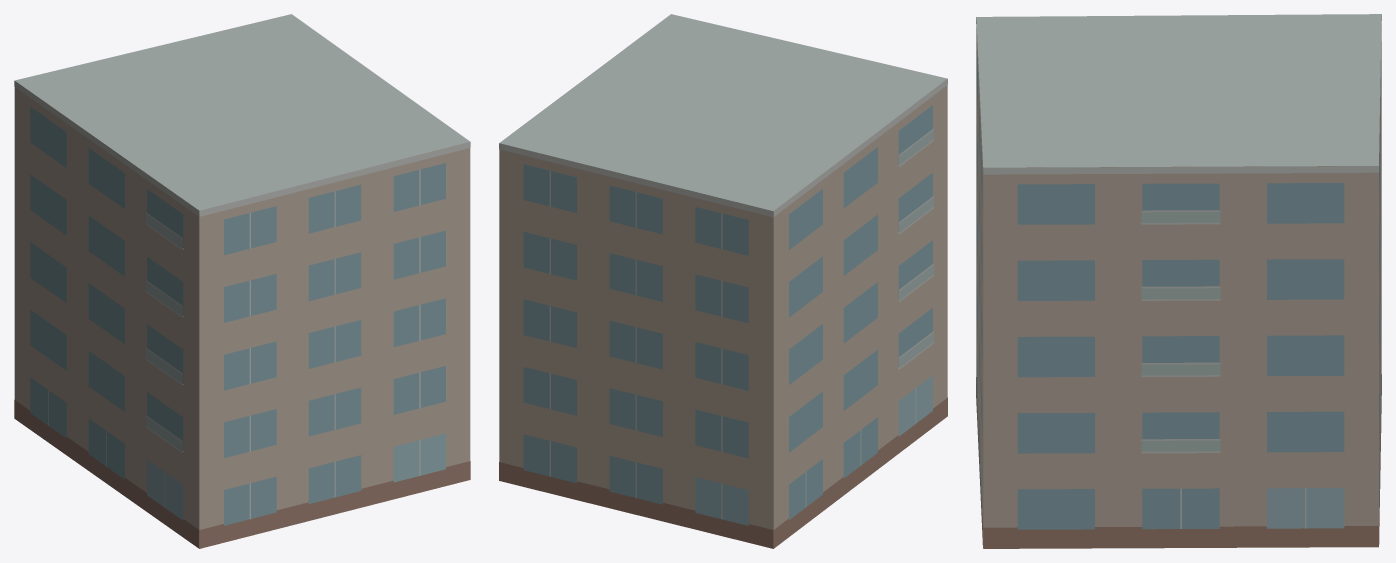
The model's file is survey-upis-32741298.glb.
3 renders of one model, left to right at view 1: azimuth 30°, elevation 25°; view 2: azimuth 150°, elevation 25°; view 3: azimuth 270°, elevation 25°, orthographic. The views are drawn at different scales.
Visible parts, largest first — view 1: survey-upis-32741298.tmp; view 2: survey-upis-32741298.tmp; view 3: survey-upis-32741298.tmp.
Boxes of the visible parts, x1=… form: survey-upis-32741298.tmp: x1=14, y1=14, x2=470, y2=548; survey-upis-32741298.tmp: x1=499, y1=14, x2=947, y2=548; survey-upis-32741298.tmp: x1=976, y1=14, x2=1381, y2=548.
Bounding box in the file's own units: 11.64 × 13.45 × 12.97.
